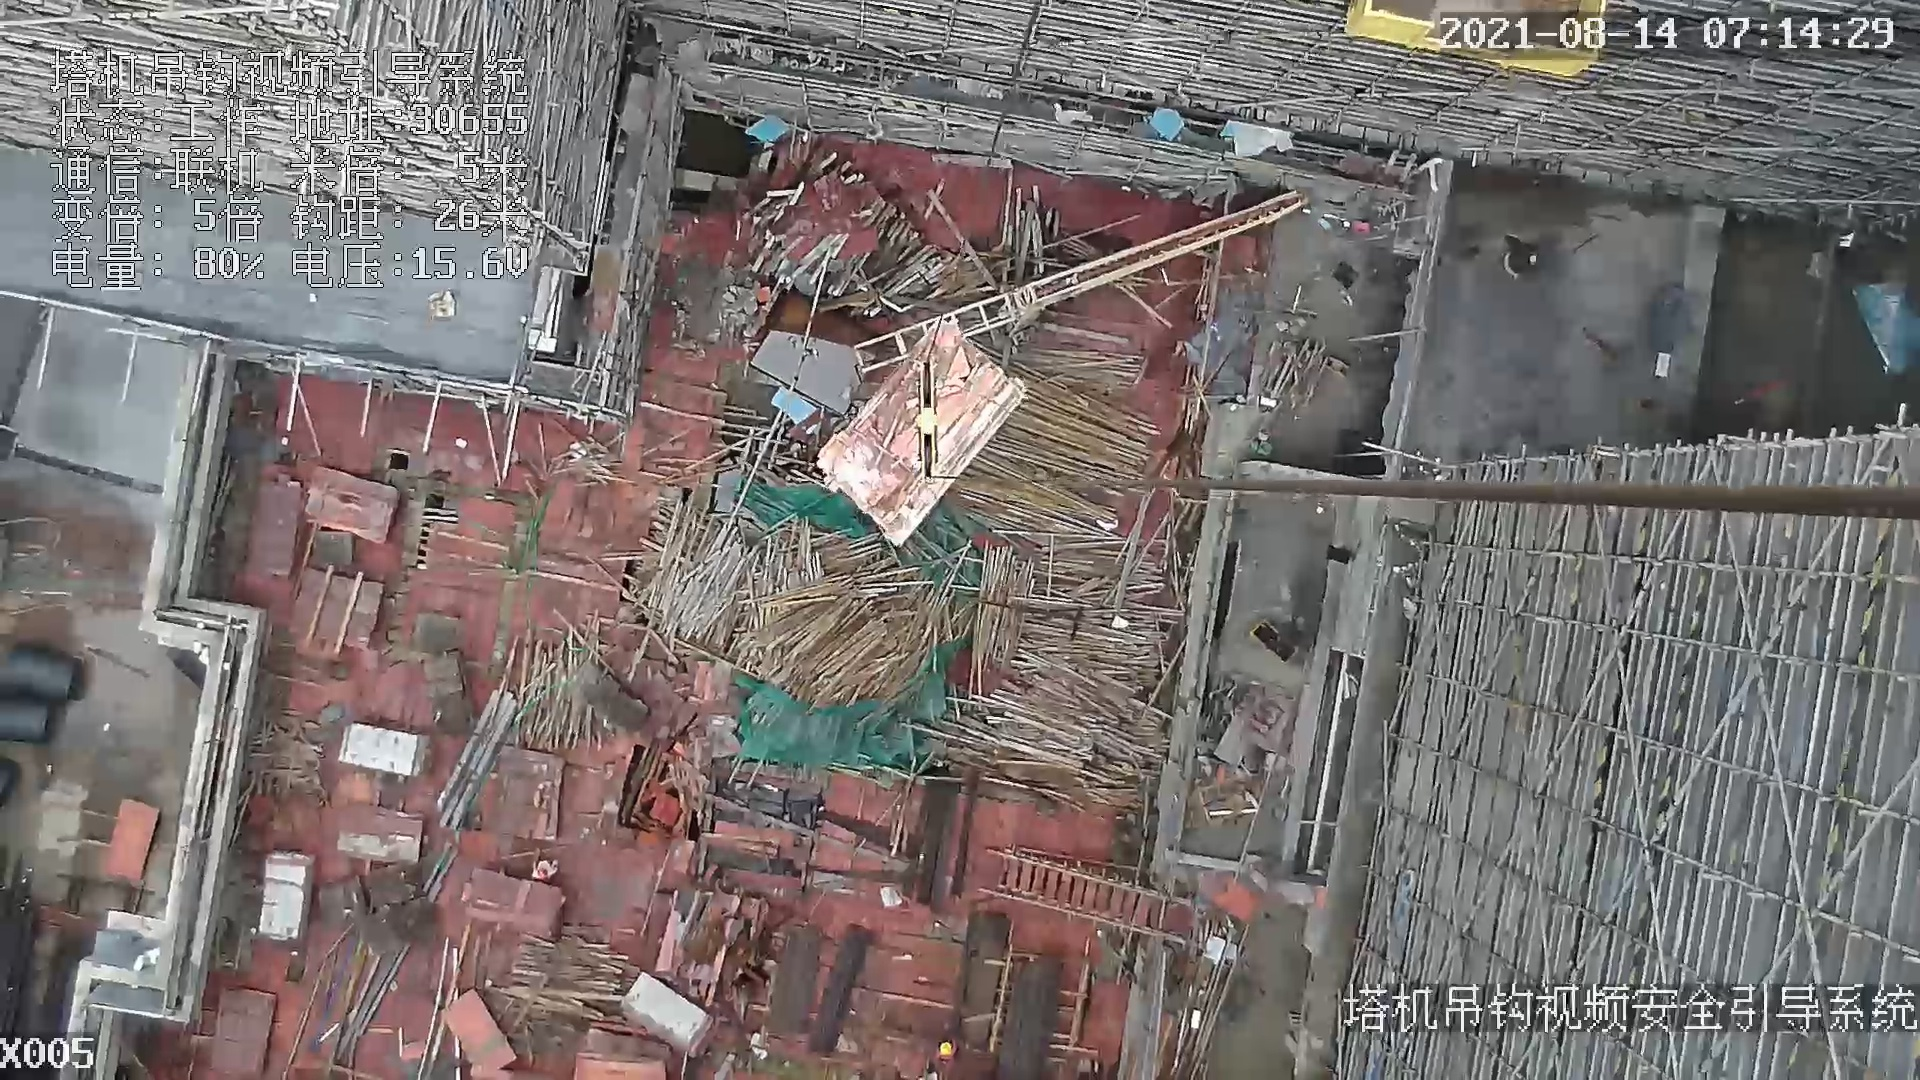hook: (909, 356, 944, 485)
